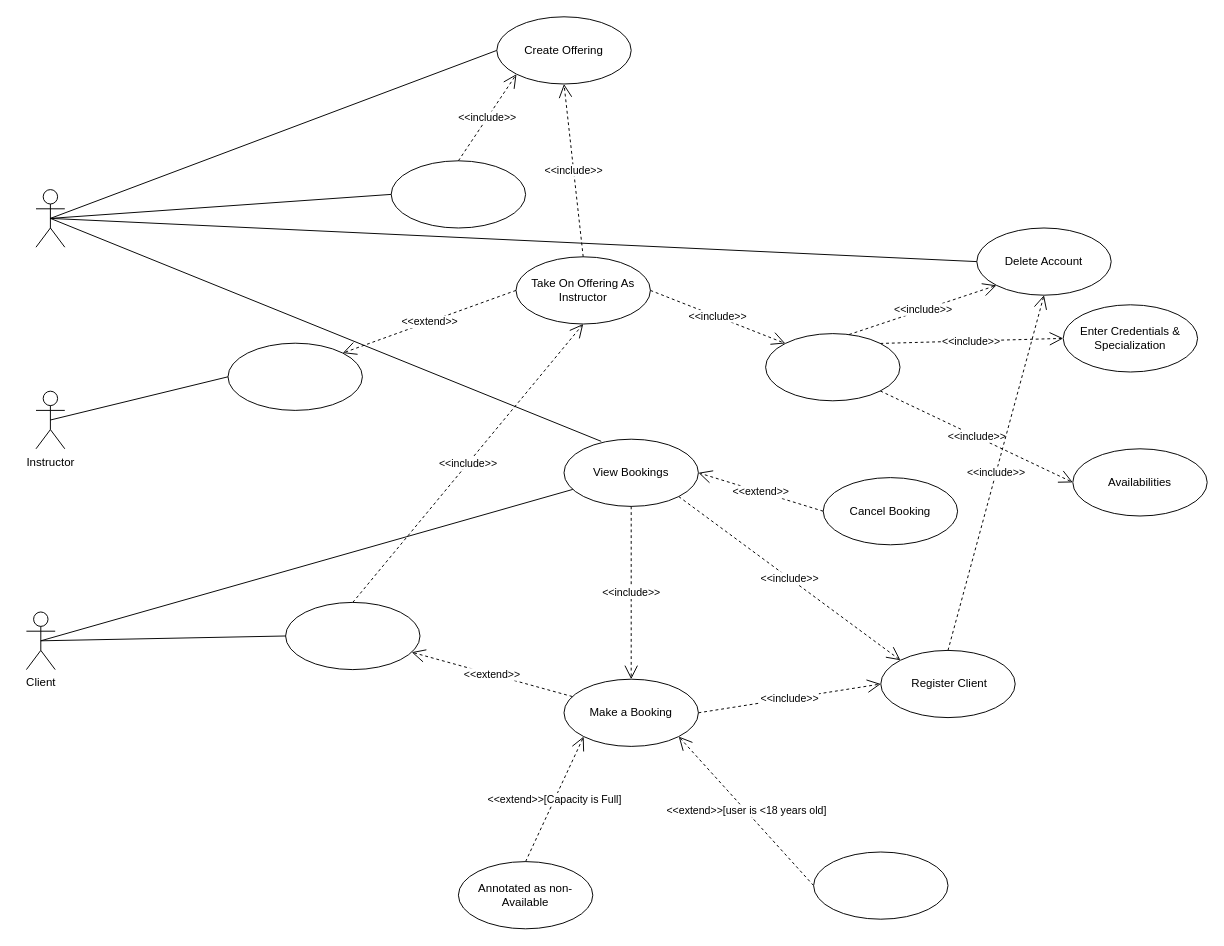
This 1224x946 diagram has some shape labels left out. Here are the shapes that lost their labels. From the top down, the centre of each, then its label:
pixel 458 194: Delete Offering
pixel 50 218: Administrator
pixel 294 376: View All Offerings
pixel 832 367: Register Instructor
pixel 352 635: View Available Offerings
pixel 880 885: Acquire Consent From Client's Parent
